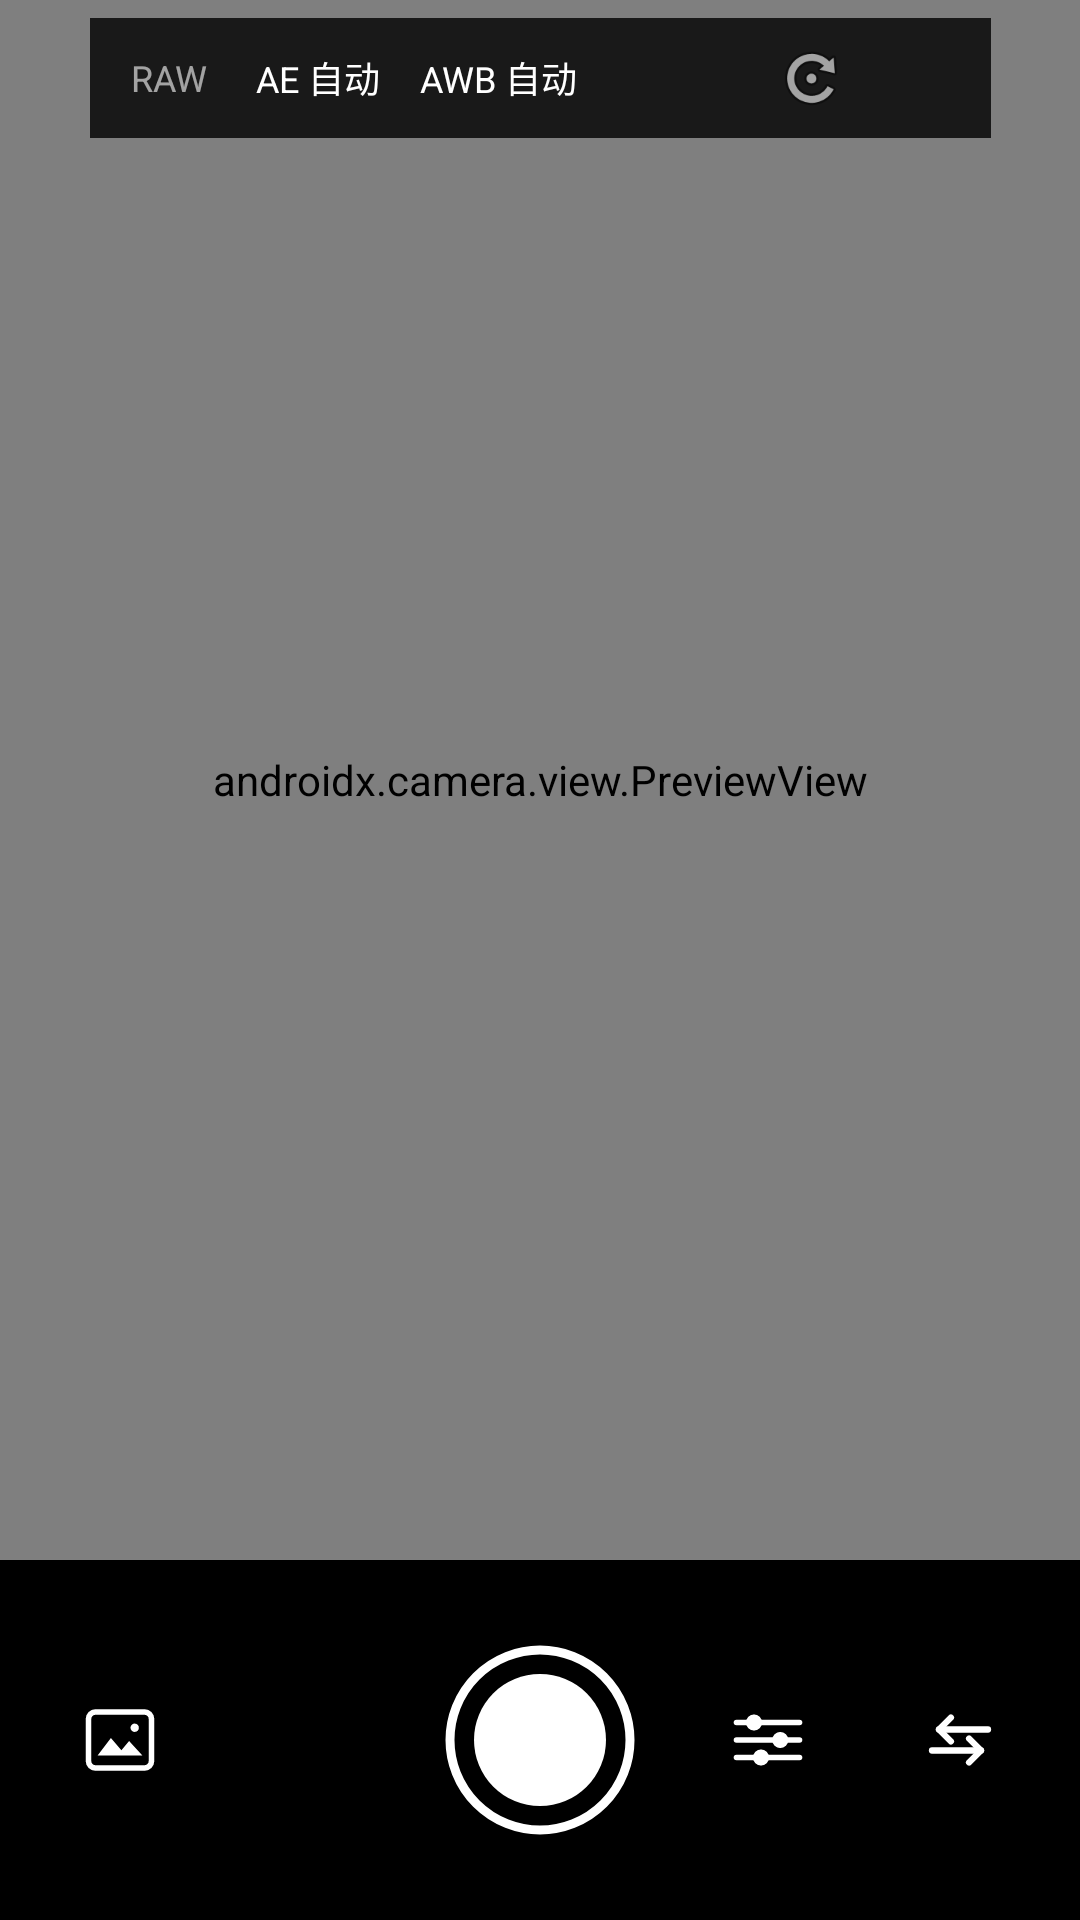

Named icons in this screenshot (1080x1920) and their centers, (x=x, y=y):
切换摄像头: (x=960, y=1740)
切换横竖方向: (x=811, y=78)
图库: (x=120, y=1740)
快门: (x=540, y=1740)
滤镜: (x=768, y=1740)
